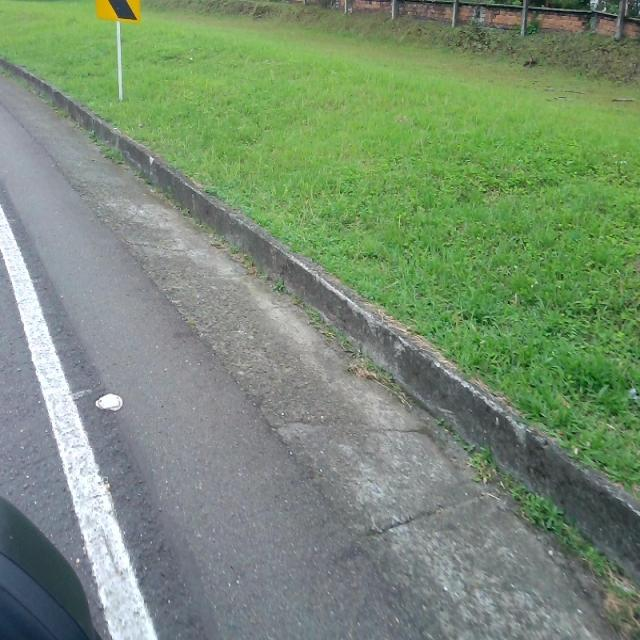DITCH: (1, 54, 638, 638), (1, 56, 638, 638)
